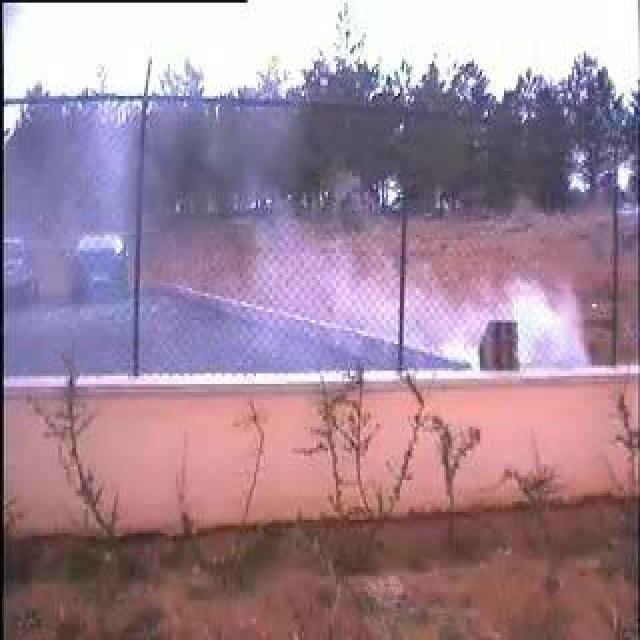Smoke: (357, 256, 579, 373)
